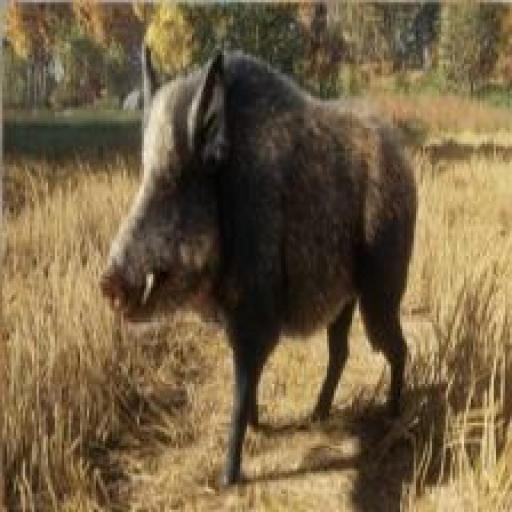Pig: (91, 14, 431, 508)
